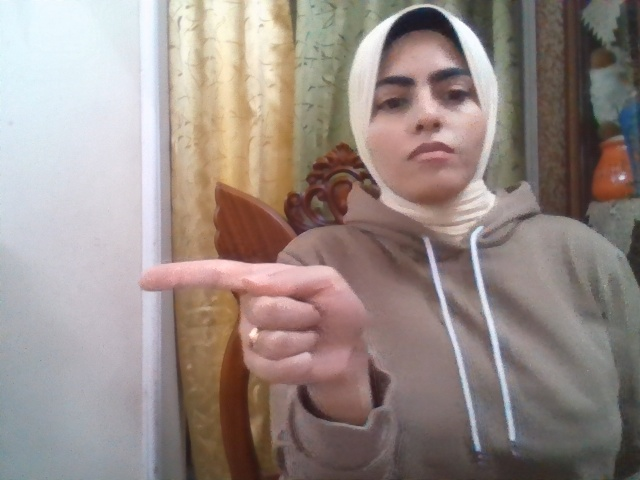G: (138, 258, 367, 388)
